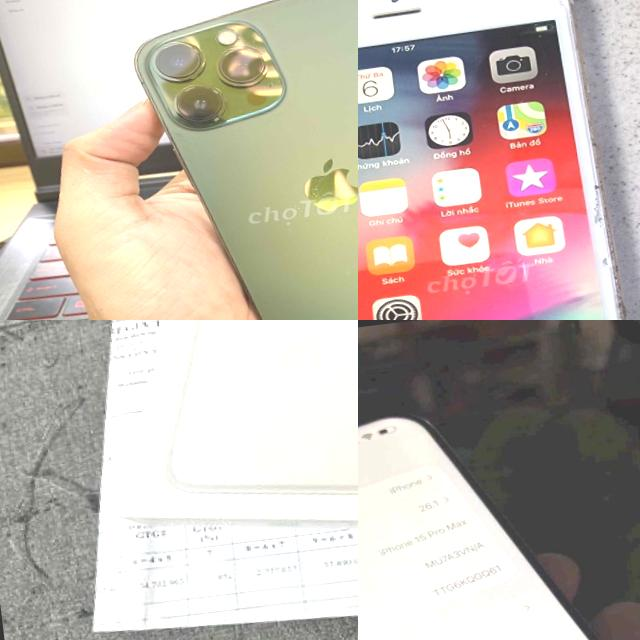physical_damage: (576, 168, 622, 303), (509, 0, 576, 14)
